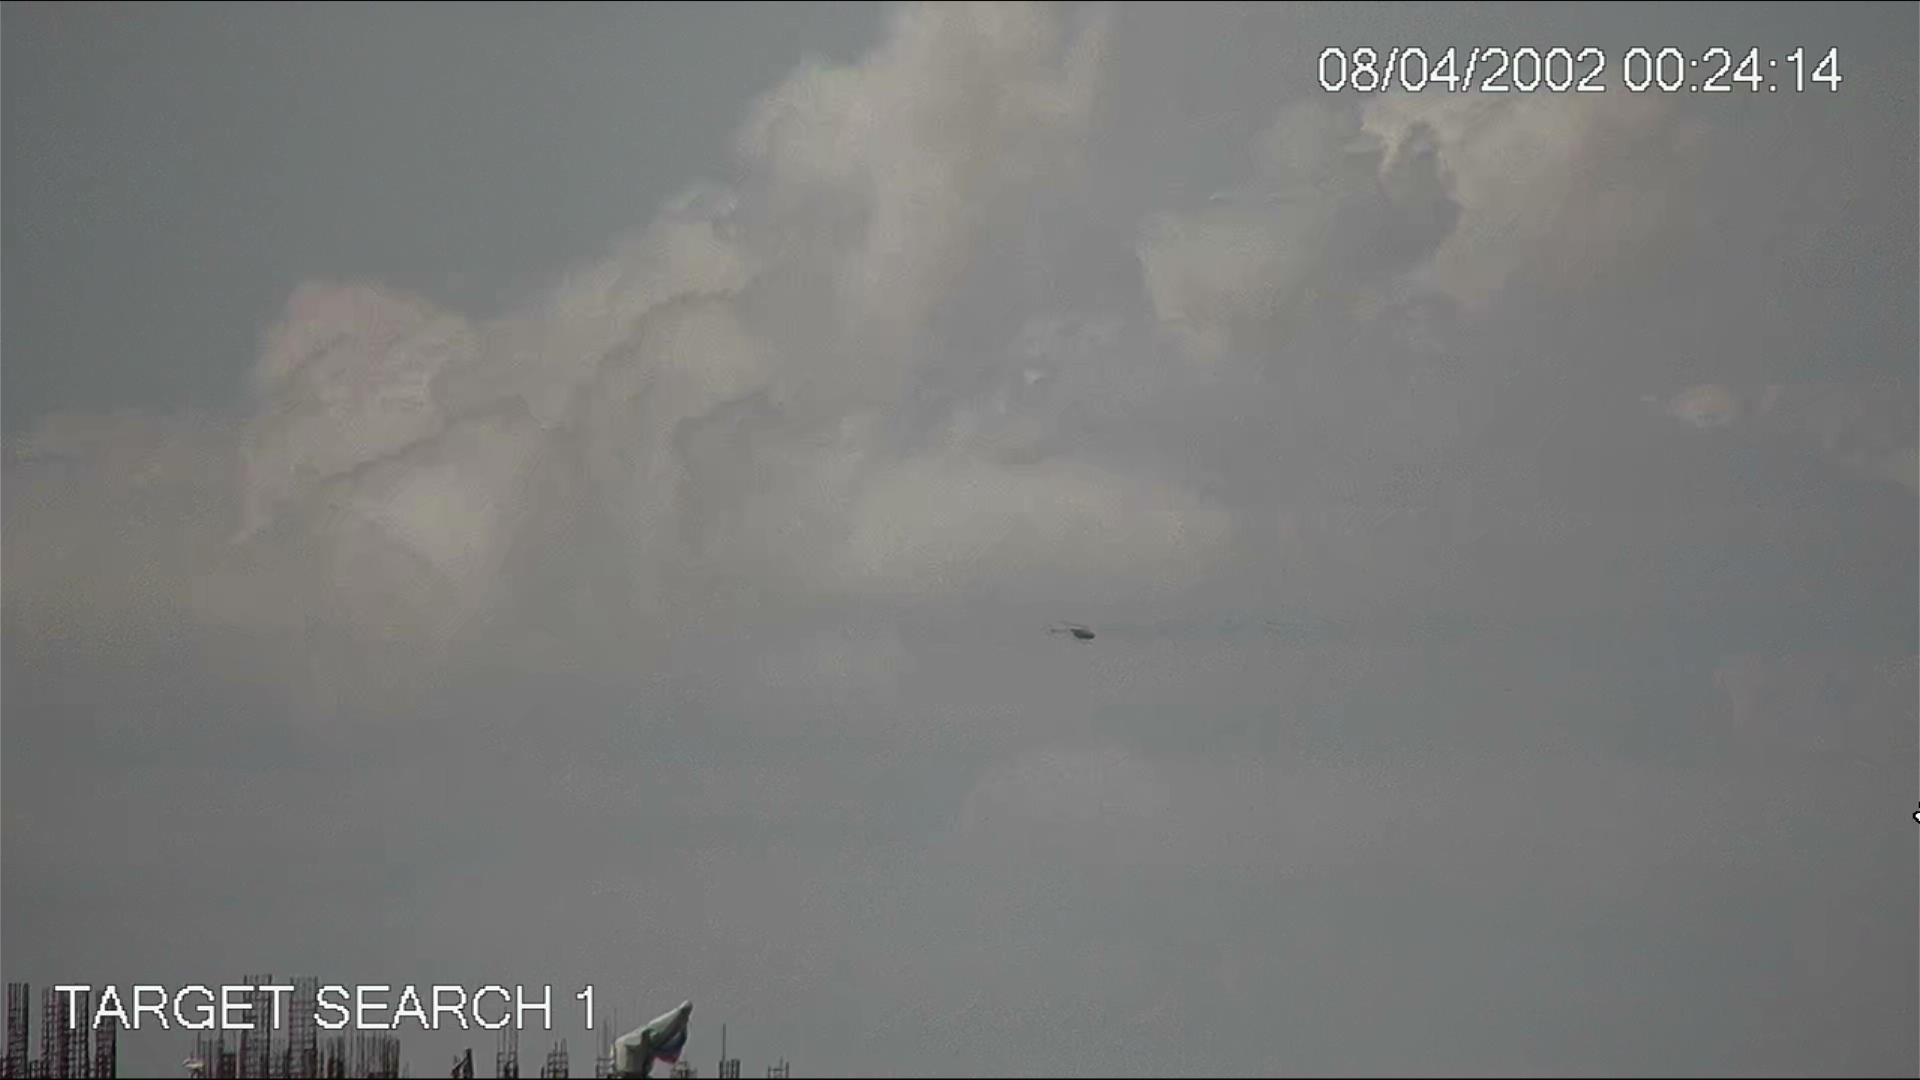SU_30: (1043, 618, 1098, 646)
